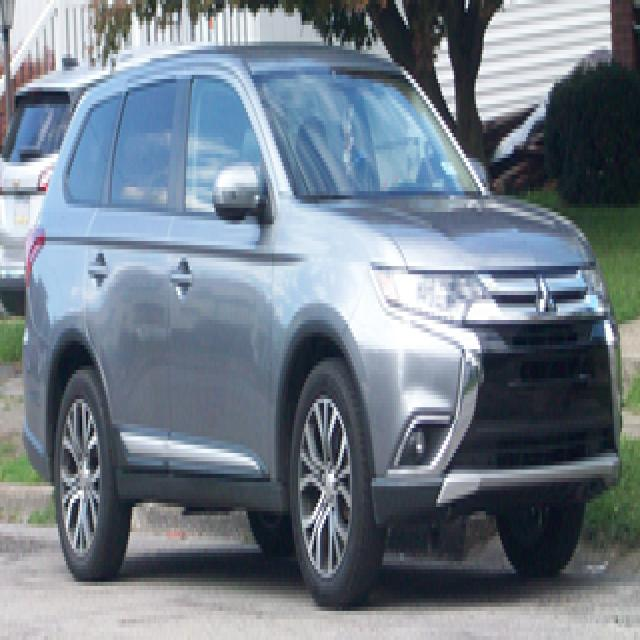light_vehicle: (20, 39, 622, 609)
